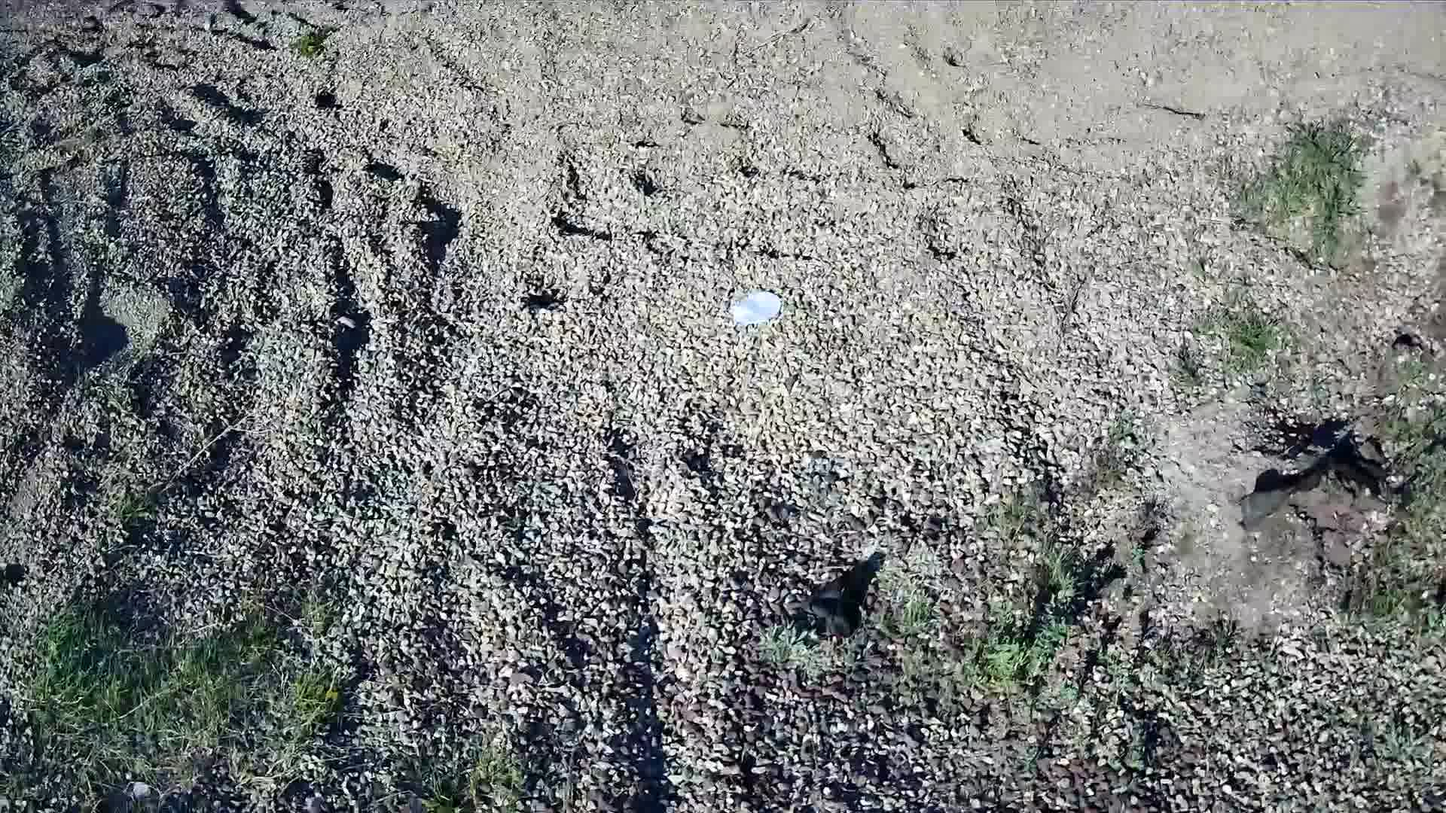Target: (734, 291, 780, 324)
